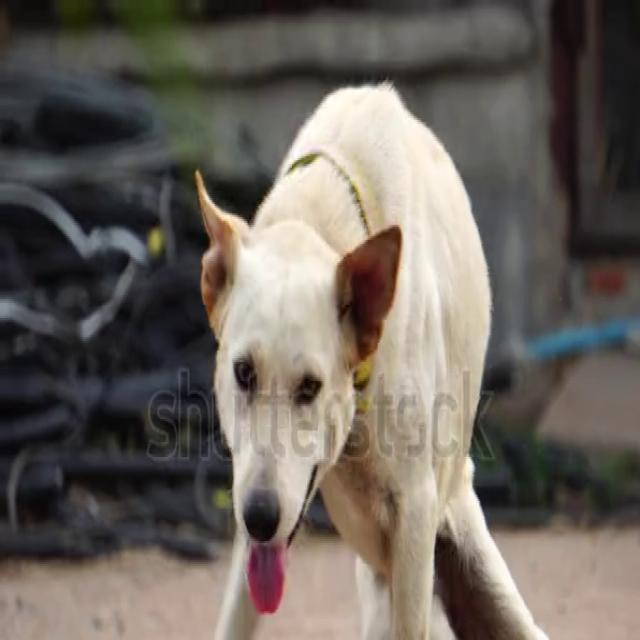normal_animals: (187, 76, 569, 638)
